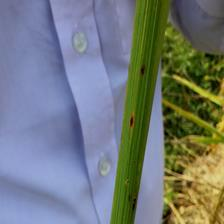0 BrownSpot: (128, 186, 139, 209), (127, 107, 138, 129), (139, 60, 144, 74)
